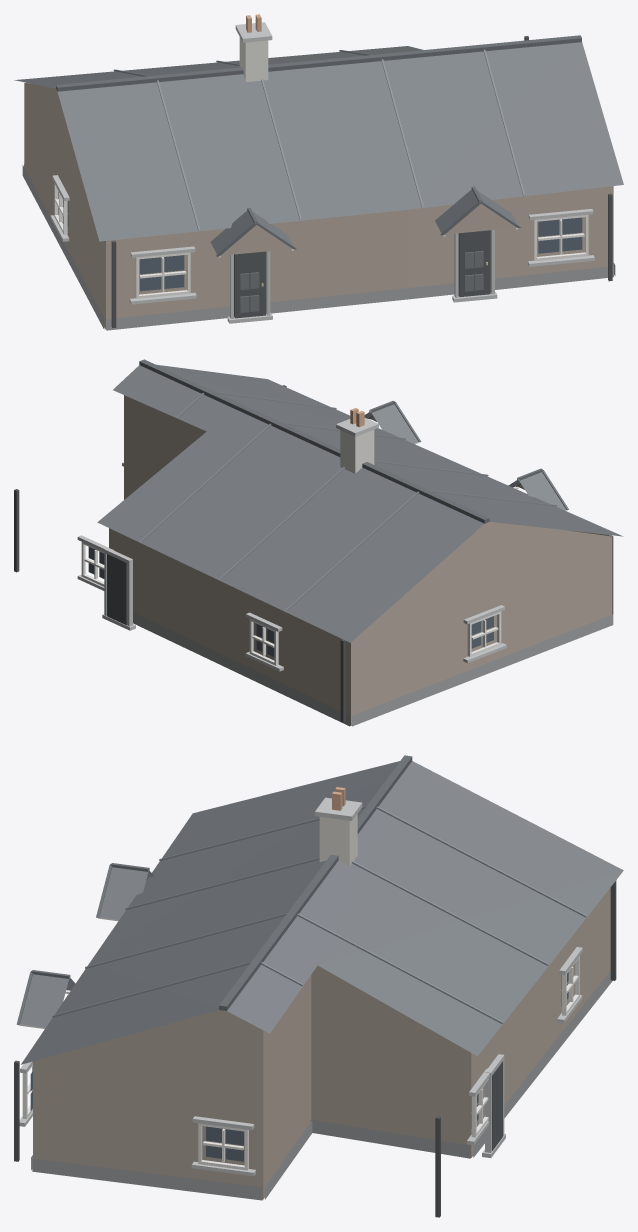
3 views of the same model, one above another, from view 1: azimuth 30°, elevation 25°; view 2: azimuth 150°, elevation 25°; view 3: azimuth 270°, elevation 25° (orthographic). The views are drawn at different scales.
Parts seen in each view (by area): view 1: slate, harl_brown, plinth, slate_dk, stone_band, door_dark, frame, slate_lt, door_dark_p, chim_render, pipe; view 2: slate, harl_brown, plinth, slate_dk, stone_band, slate_lt, frame, door_dark, chim_render, pipe; view 3: slate, harl_brown, plinth, slate_lt, slate_dk, stone_band, frame, pipe, chim_render, door_dark.
Part boxes in pixels (bbox=[...]): slate: bbox=[14, 42, 623, 254]; harl_brown: bbox=[24, 82, 613, 329]; plinth: bbox=[22, 164, 615, 330]; slate_dk: bbox=[56, 35, 581, 256]; stone_band: bbox=[50, 22, 594, 323]; door_dark: bbox=[234, 230, 490, 318]; frame: bbox=[54, 183, 588, 298]; slate_lt: bbox=[113, 49, 524, 230]; door_dark_p: bbox=[240, 251, 483, 312]; chim_render: bbox=[239, 37, 268, 81]; pipe: bbox=[111, 36, 612, 328]; slate: bbox=[97, 364, 623, 642]; harl_brown: bbox=[109, 395, 612, 725]; plinth: bbox=[133, 612, 613, 726]; slate_dk: bbox=[139, 359, 568, 523]; stone_band: bbox=[77, 418, 506, 671]; slate_lt: bbox=[140, 391, 556, 611]; frame: bbox=[81, 419, 566, 665]; door_dark: bbox=[107, 554, 127, 625]; chim_render: bbox=[340, 429, 374, 473]; pipe: bbox=[14, 385, 613, 722]; slate: bbox=[20, 761, 623, 1064]; harl_brown: bbox=[33, 888, 610, 1199]; plinth: bbox=[31, 971, 612, 1200]; slate_lt: bbox=[52, 806, 586, 1023]; slate_dk: bbox=[16, 755, 412, 1024]; stone_band: bbox=[19, 797, 582, 1176]; frame: bbox=[18, 917, 579, 1170]; pipe: bbox=[14, 880, 616, 1217]; chim_render: bbox=[319, 814, 357, 866]; door_dark: bbox=[492, 1061, 502, 1150].
Size of the model in its own units: 17.22 by 6.74 by 14.71.
